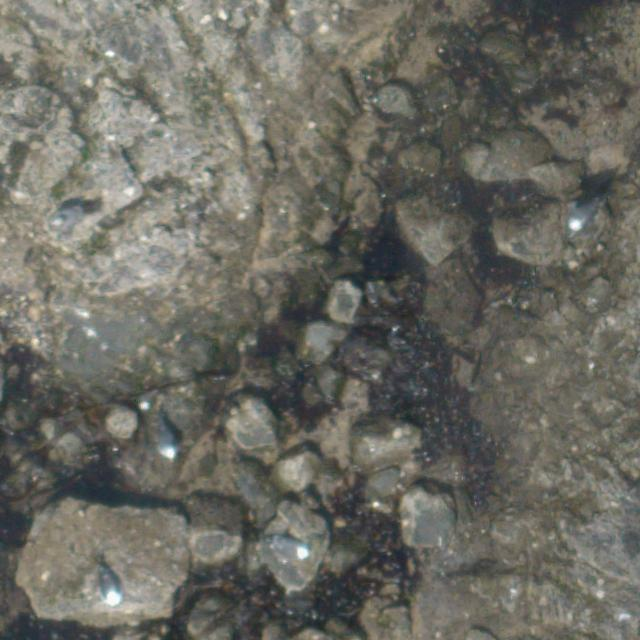umineko: (274, 540, 310, 558), (101, 574, 121, 605), (570, 205, 594, 229), (159, 425, 177, 456), (138, 389, 154, 411)
